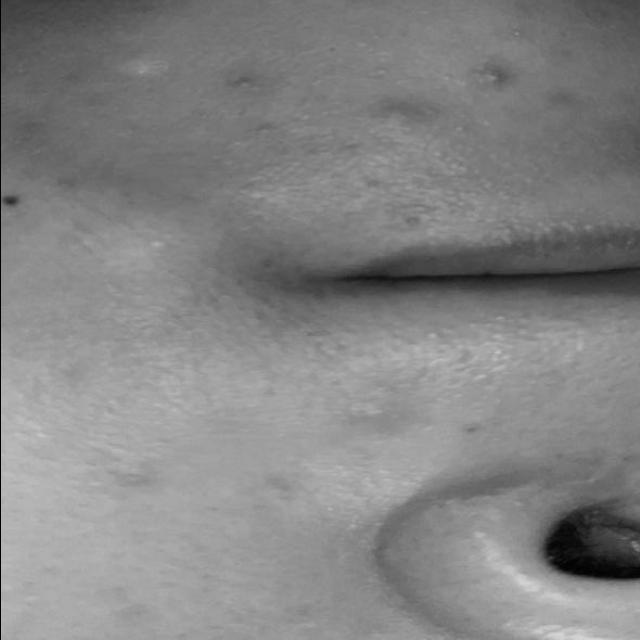papule: (320, 374, 424, 429), (353, 75, 435, 139)
pustule: (469, 52, 519, 112)
